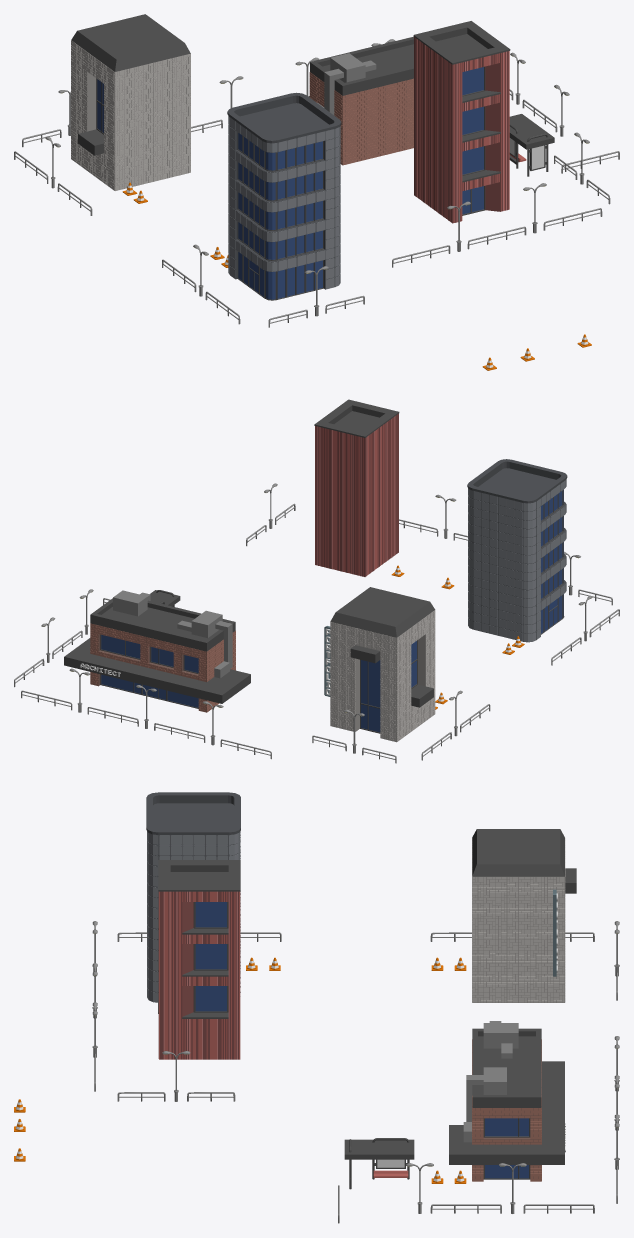
File: msja-world-0416.glb
3 views of the same model, one above another, from view 1: azimuth 30°, elevation 25°; view 2: azimuth 150°, elevation 25°; view 3: azimuth 270°, elevation 25° (orthographic). The views are drawn at different scales.
Parts seen in each view (by area): view 1: base.001, Cube.974, base, Cube.1000, roof, Cube.926, roof-2, Cube.1841, Cube.287, Cube.1008, Cube.1005, Cube.1007 (+9 smaller); view 2: base.001, Cube.975, Cube.974, Cube.1000, roof-1, roof-2, roof, base, Cube.1003, Cube.309, Cube.298, Cube.965 (+4 smaller); view 3: base.001, Cube.994, base, roof-1, roof, roof-2, Cube.1000, Cube.287, Cube.965, Cube.298, Cube.297, Cube.309 (+5 smaller).
Part boxes in pixels (x1,y1,x2,y2): base.001: [416, 29, 509, 222]; Cube.974: [414, 37, 452, 223]; base: [71, 41, 190, 190]; Cube.1000: [229, 98, 338, 289]; roof: [71, 14, 190, 71]; Cube.926: [452, 51, 508, 223]; roof-2: [310, 36, 413, 95]; Cube.1841: [237, 251, 323, 300]; Cube.287: [509, 114, 554, 176]; Cube.1008: [237, 132, 323, 171]; Cube.1005: [237, 162, 323, 201]; Cube.1007: [237, 222, 323, 260]; base.001: [315, 406, 397, 576]; Cube.975: [315, 426, 364, 576]; Cube.974: [365, 413, 398, 576]; Cube.1000: [469, 463, 566, 642]; roof-1: [64, 638, 250, 703]; roof-2: [90, 598, 235, 651]; roof: [330, 587, 435, 637]; base: [330, 610, 434, 742]; Cube.1003: [360, 659, 380, 733]; Cube.309: [177, 610, 232, 678]; Cube.298: [467, 459, 567, 503]; Cube.965: [314, 399, 399, 437]; base.001: [159, 867, 240, 1059]; Cube.994: [160, 891, 238, 1059]; base: [472, 876, 564, 1002]; roof-1: [449, 1061, 564, 1164]; roof: [472, 829, 564, 876]; roof-2: [472, 1028, 541, 1107]; Cube.1000: [149, 798, 238, 1002]; Cube.287: [344, 1138, 414, 1189]; Cube.965: [158, 860, 240, 891]; Cube.298: [146, 792, 240, 834]; Cube.297: [463, 1067, 506, 1142]; Cube.309: [483, 1021, 518, 1058].
Size of the model in its own units: 51.32 by 25.15 by 52.24.
Materials: 15 (2 with a texture image).
